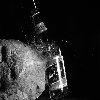beer: (27, 9, 69, 97)
